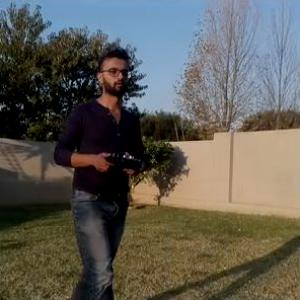follow: (46, 26, 153, 299)
